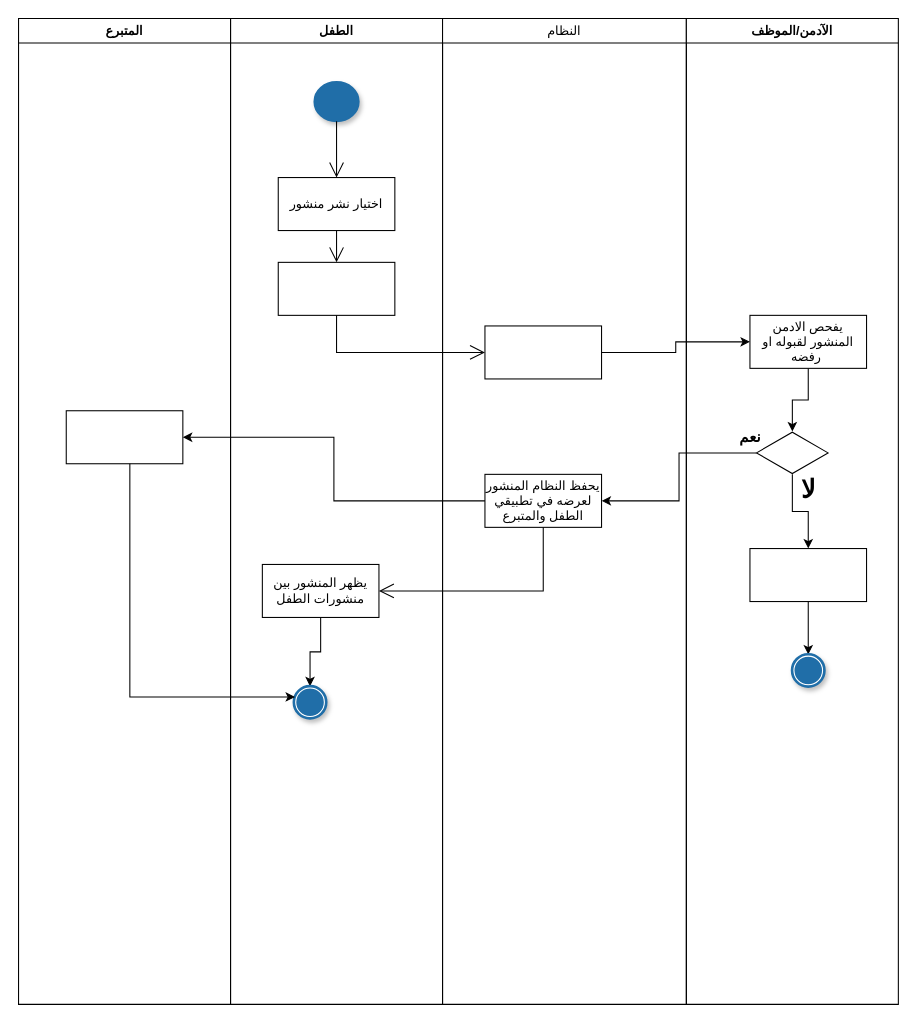
Image size: 917x1023. Some labels were removed from this diagram. Here are the shapes that lost their labels. From the top down, the centre of each, then its label:
At point (336, 288): "كتابة المنشور وتأكيد النشر".
At point (543, 352): "يرسل النظام المنشور للادمن".
At point (124, 437): "يظهر المنشور بين منشورات الطفل لدى المتبرع".
At point (808, 574): "يحذف النظام المنشور".
